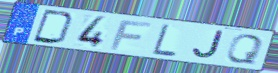4: (74, 14, 109, 50)
D: (31, 8, 77, 46)
F: (108, 19, 155, 51)
J: (190, 29, 225, 61)
L: (151, 23, 179, 59)
Q: (224, 34, 266, 66)
